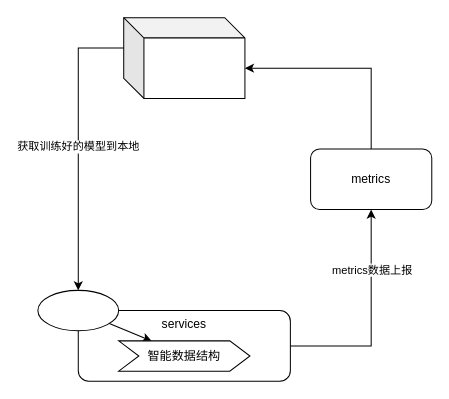
Image size: 449x399. Some labels were removed from this diagram. The box of each missing label's shape, as (x1, y1, x2, y2) in pixels:
AutoML: (123, 17, 245, 98)
LR模型Agent: (37, 289, 119, 331)
